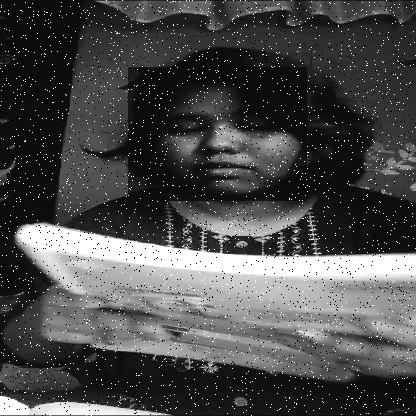Normal: (128, 68, 307, 202)
